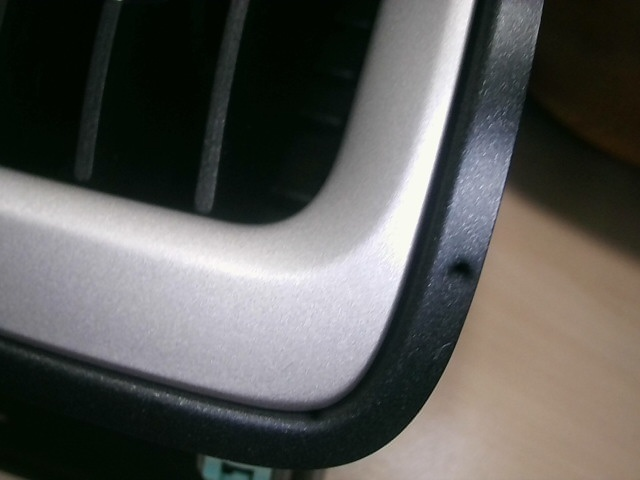NG: (273, 355, 304, 378), (433, 338, 453, 363)
